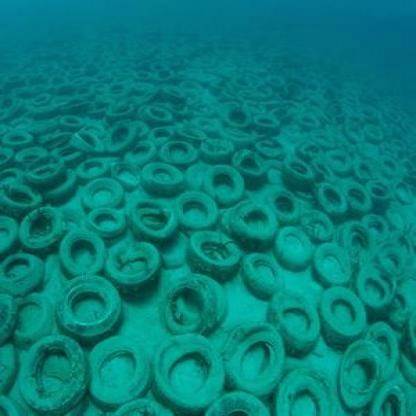tire: (22, 335, 112, 414), (42, 264, 137, 338), (151, 326, 236, 404), (219, 320, 304, 393), (93, 334, 168, 408), (194, 154, 266, 222), (165, 258, 230, 330), (309, 289, 387, 349), (118, 195, 194, 250), (229, 199, 298, 258), (261, 289, 330, 348), (31, 162, 72, 184)
